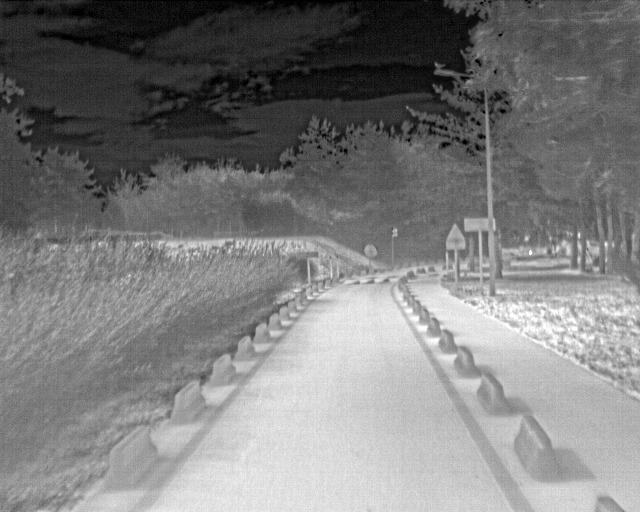light: (392, 227, 398, 238)
sign: (445, 223, 465, 250), (463, 217, 496, 232), (363, 245, 377, 258), (296, 252, 319, 259)
